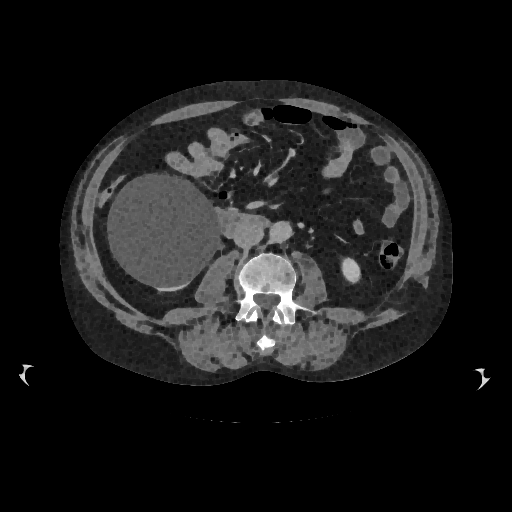Lesion: (105, 170, 222, 290)
